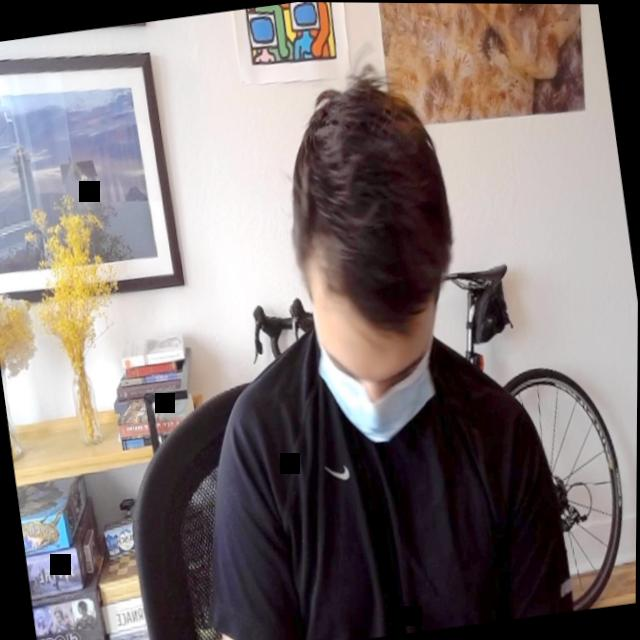Mask: (307, 281, 458, 450)
